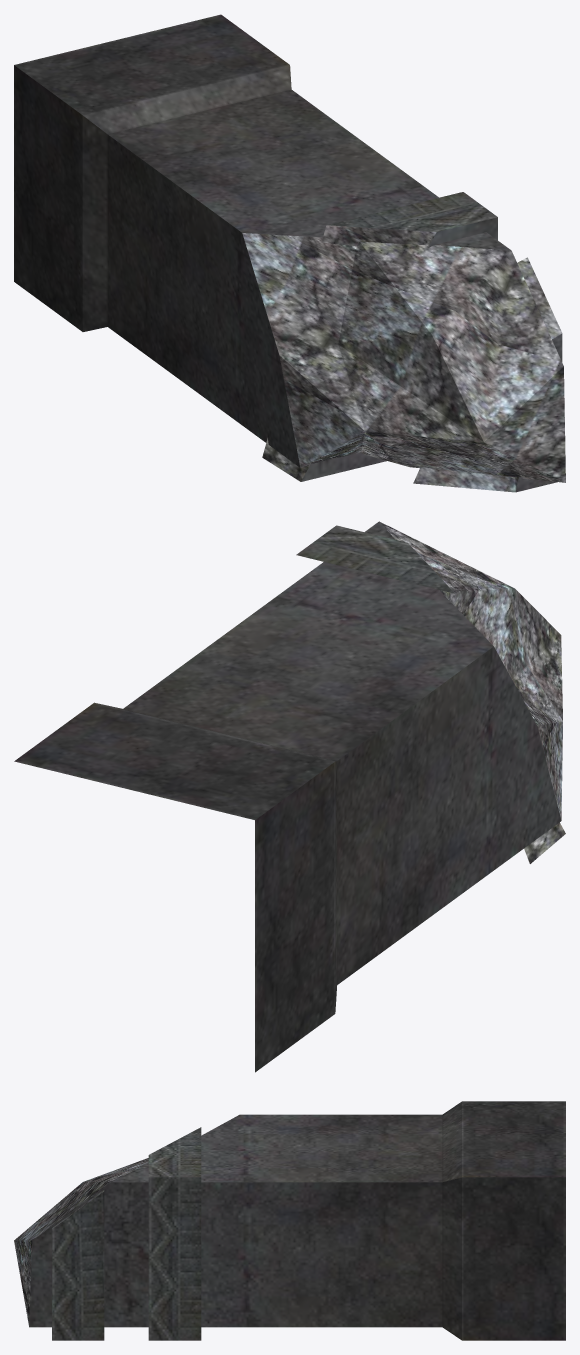
The picture shows the model from 3 angles, top to bottom: view 1: azimuth 30°, elevation 25°; view 2: azimuth 150°, elevation 25°; view 3: azimuth 270°, elevation 25°; orthographic projection. The views are drawn at different scales.
Parts seen in each view (by area): view 1: model_Object34; view 2: model_Object34; view 3: model_Object34.
Part boxes in pixels (left/top/right/bottom): model_Object34: left=14, top=14, right=565, bottom=492; model_Object34: left=14, top=521, right=565, bottom=1072; model_Object34: left=14, top=1101, right=565, bottom=1340.
Bounding box in the file's own units: 0.8443 × 0.8443 × 2.59.
Materials: 2 (2 with a texture image).
